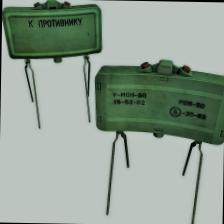MOH-50: (94, 57, 224, 224), (1, 0, 104, 61)
